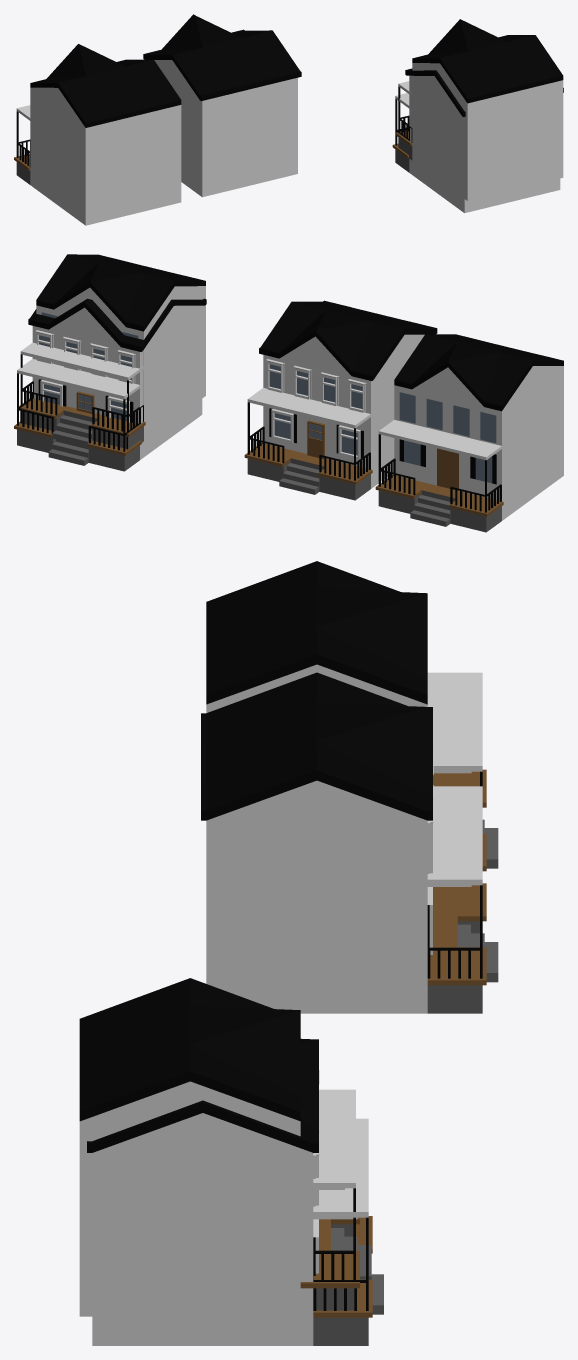
Rendered from HouseQ2.fbx.
3 views of the same model, one above another, from view 1: azimuth 30°, elevation 25°; view 2: azimuth 150°, elevation 25°; view 3: azimuth 270°, elevation 25° (orthographic). The views are drawn at different scales.
Parts seen in each view (by area): view 1: House_Test_2.003, House_Test_2.001, House_Test_2.002, House_Test_2; view 2: House_Test_2.003, House_Test_2.002, House_Test_2.001, House_Test_2; view 3: House_Test_2.002, House_Test_2, House_Test_2.001, House_Test_2.003.
Part boxes in pixels (x1,y1,x2,y2): House_Test_2.003: (14, 44, 181, 225); House_Test_2.001: (395, 19, 563, 200); House_Test_2.002: (143, 14, 301, 197); House_Test_2: (392, 68, 563, 213); House_Test_2.003: (375, 334, 563, 532); House_Test_2.002: (244, 300, 437, 500); House_Test_2.001: (19, 254, 205, 449); House_Test_2: (14, 298, 206, 471); House_Test_2.002: (201, 672, 498, 1013); House_Test_2: (87, 1038, 383, 1345); House_Test_2.001: (79, 978, 371, 1316); House_Test_2.003: (206, 561, 498, 871).
Size of the model in its own units: 4702 by 1818 by 1893.
